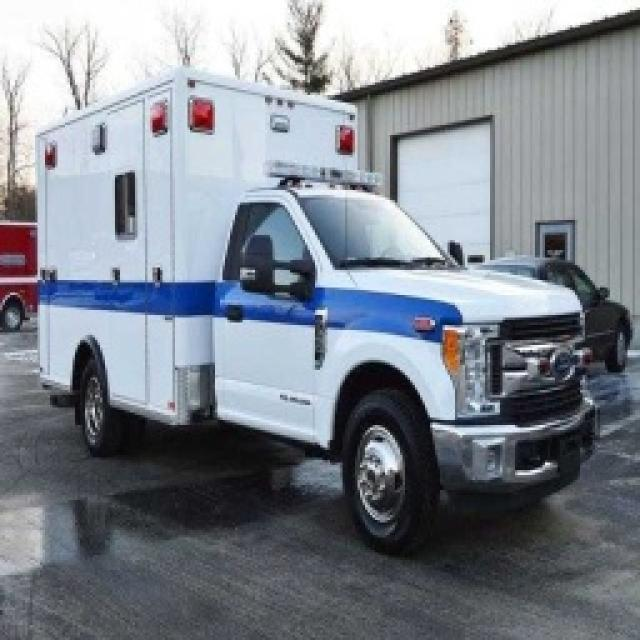emergency-vehicle: (33, 65, 592, 540)
